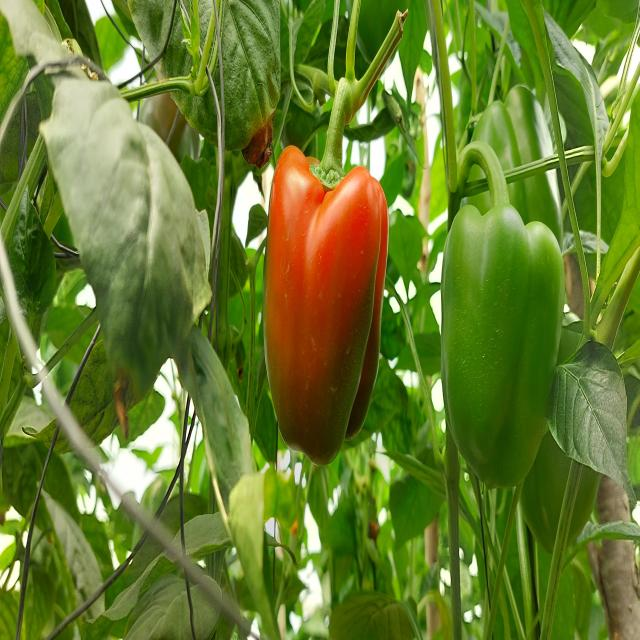BrownishRed--Can-be-Harvested: (257, 143, 390, 473)
Green--Not-ready-to-harvest: (444, 180, 559, 485)
